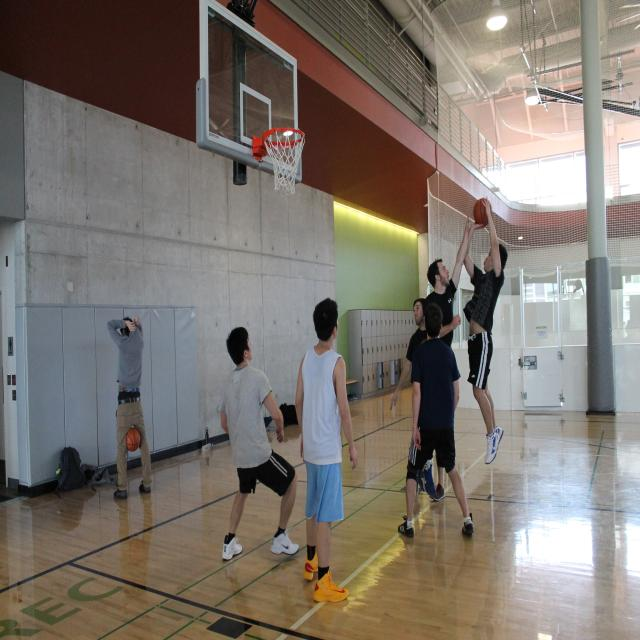body: (294, 296, 360, 603), (219, 327, 301, 560), (398, 301, 475, 540), (462, 194, 508, 466), (388, 296, 448, 504), (105, 315, 152, 500), (425, 210, 470, 348)
